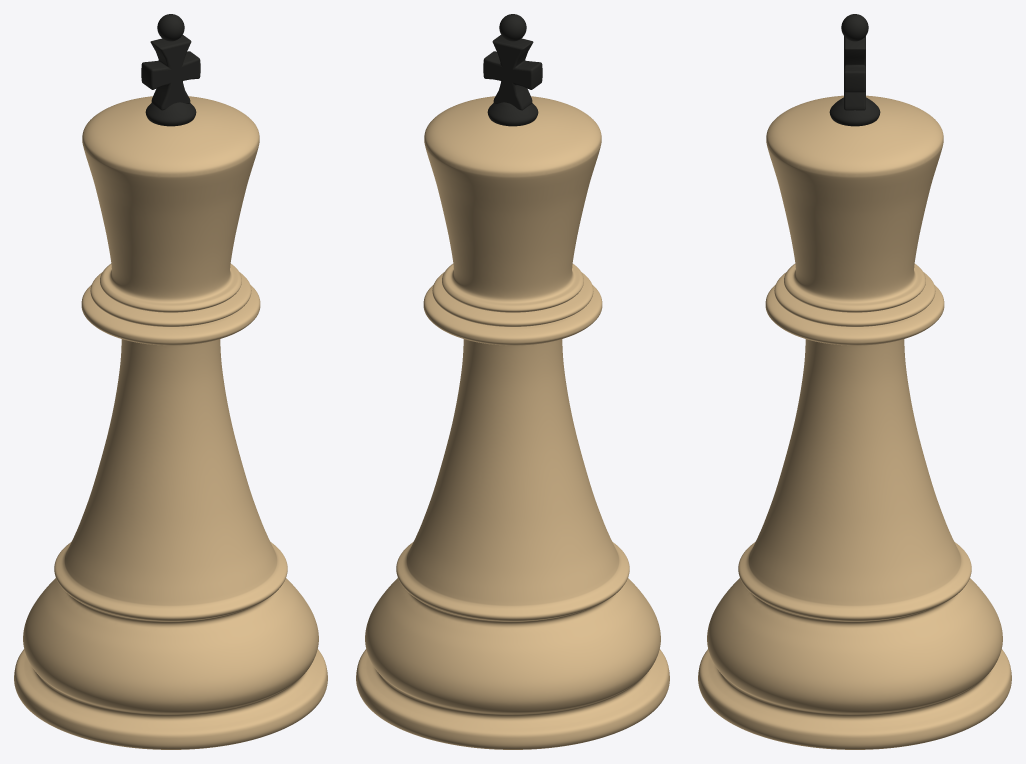
File: king-cross.glb
3 renders of one model, left to right at view 1: azimuth 30°, elevation 25°; view 2: azimuth 150°, elevation 25°; view 3: azimuth 270°, elevation 25°, orthographic.
Parts seen in each view (by area): view 1: King cross.001; view 2: King cross.001; view 3: King cross.001.
Boxes of the visible parts, bbox=[...] form: King cross.001: bbox=[14, 14, 327, 749]; King cross.001: bbox=[356, 14, 669, 749]; King cross.001: bbox=[698, 14, 1011, 749].
Size of the model in its own units: 0.0413 by 0.0984 by 0.0413.
